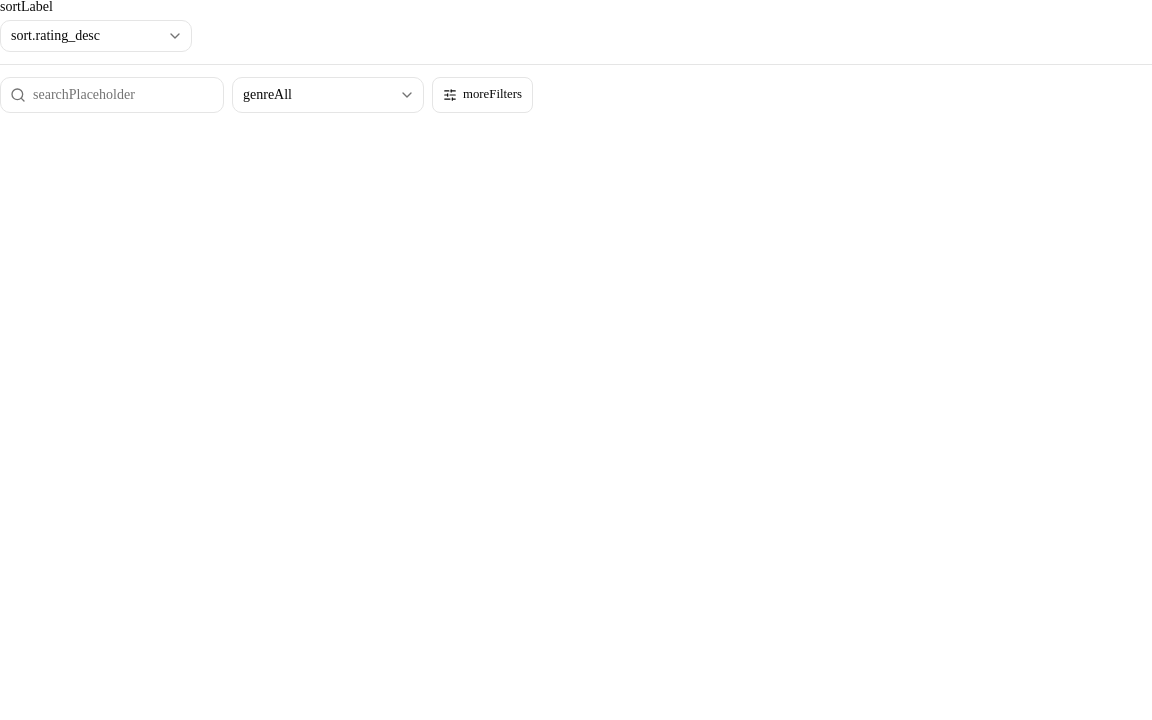
AdminCatalogFilters › shows an inline error when rating_internal_min is greater than rating_internal_max
The width and height of the screenshot is (1152, 720).
Click the button "moreFilters" at (482, 95), box [432,77,533,113]
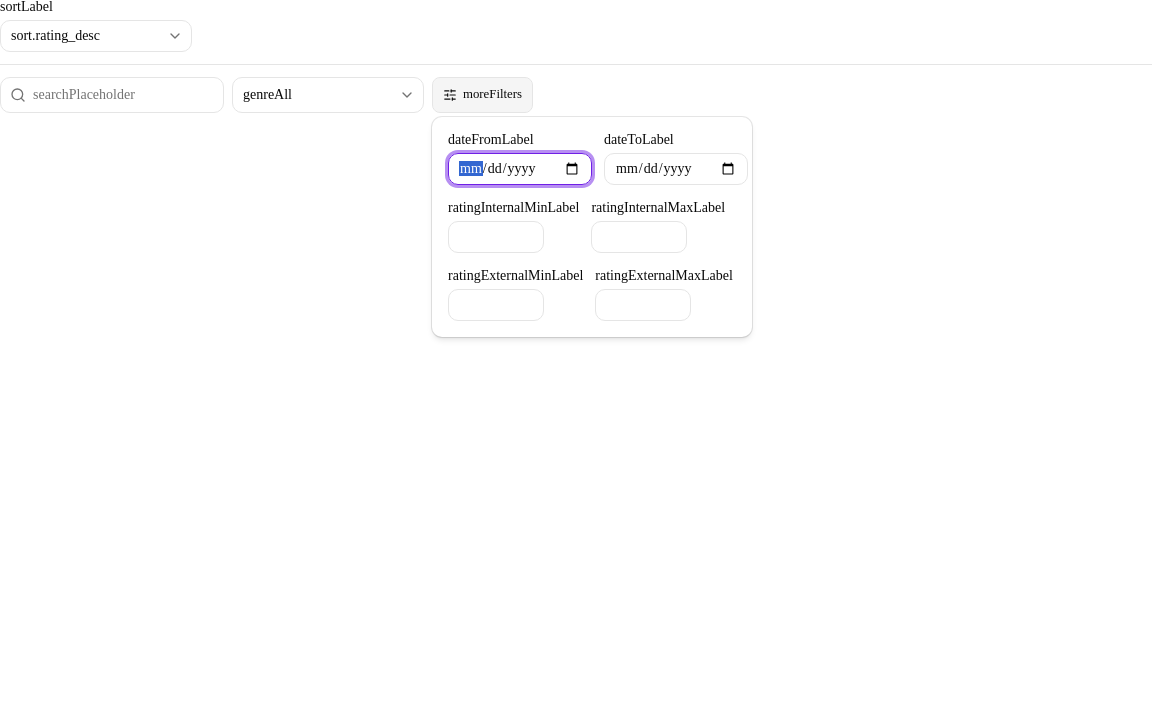
Type "4" into the number field labelled "ratingInternalMinLabel" at (496, 237), box [448,221,544,253]
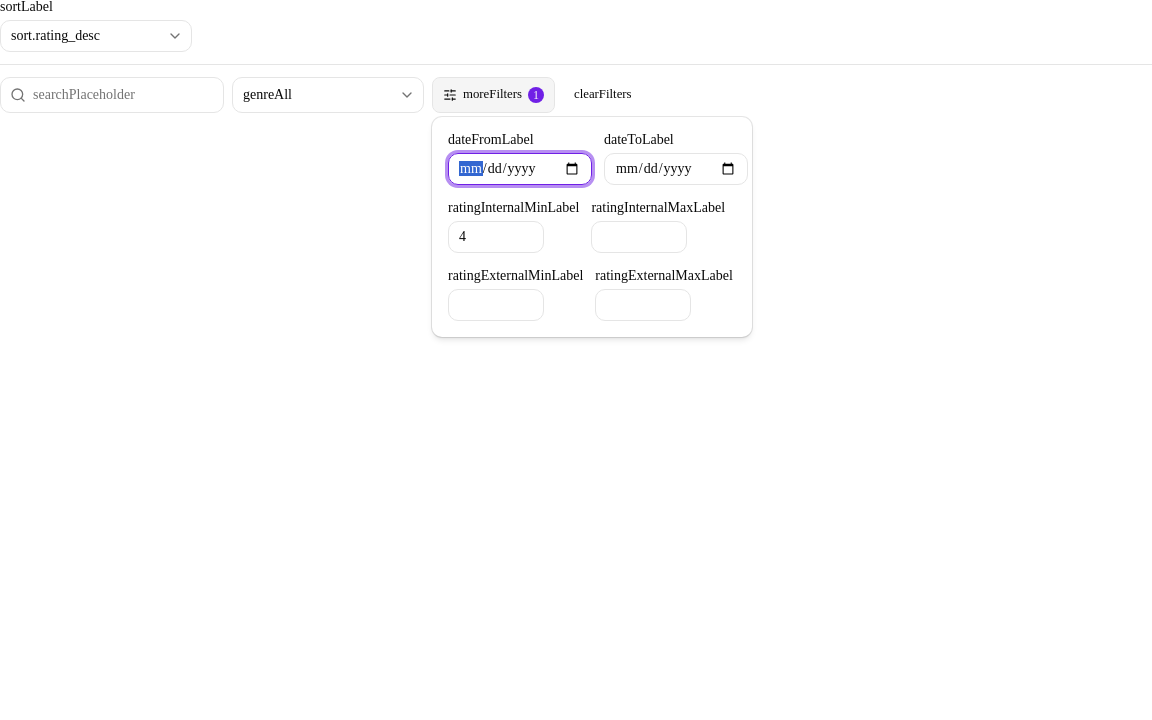
Type "2" into the number field labelled "ratingInternalMaxLabel" at (639, 237), box [591,221,687,253]
Wait 300 ms
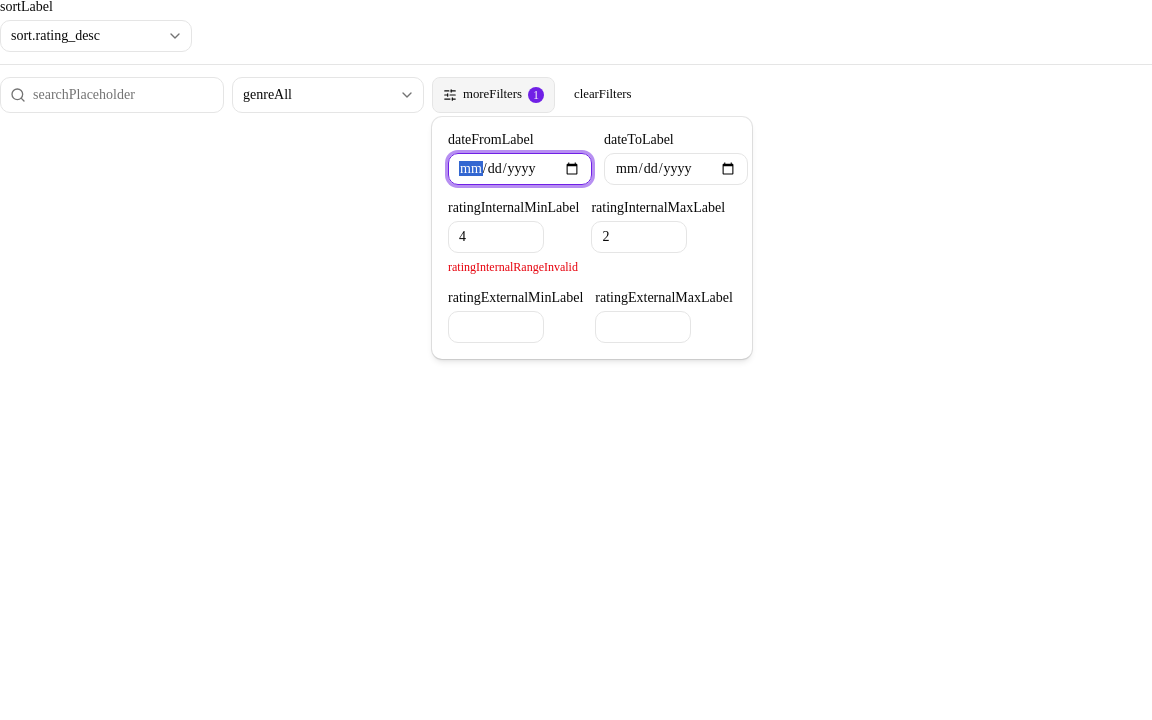
Check: the text "ratingInternalRangeInvalid" is shown, box [448,260,578,274]
